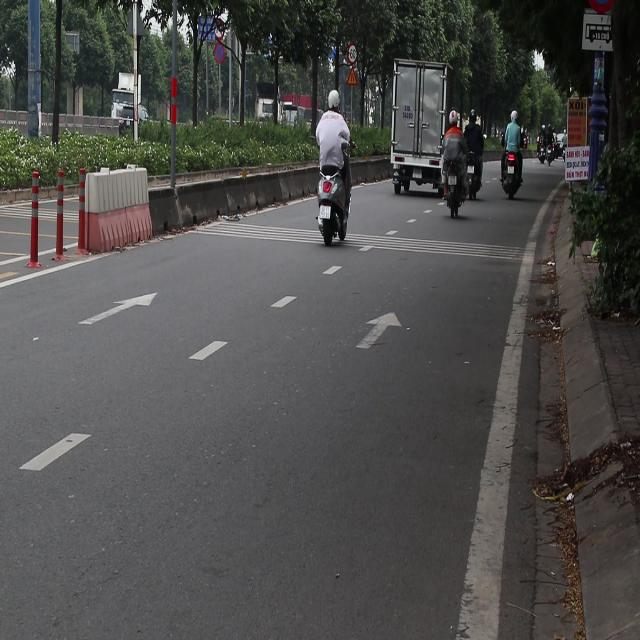car: (103, 107, 154, 147)
motorbike: (316, 164, 351, 246), (436, 165, 465, 228), (501, 148, 525, 199), (464, 150, 482, 211), (540, 134, 555, 171), (534, 132, 549, 166)
truck: (389, 60, 465, 200), (114, 104, 148, 125)
